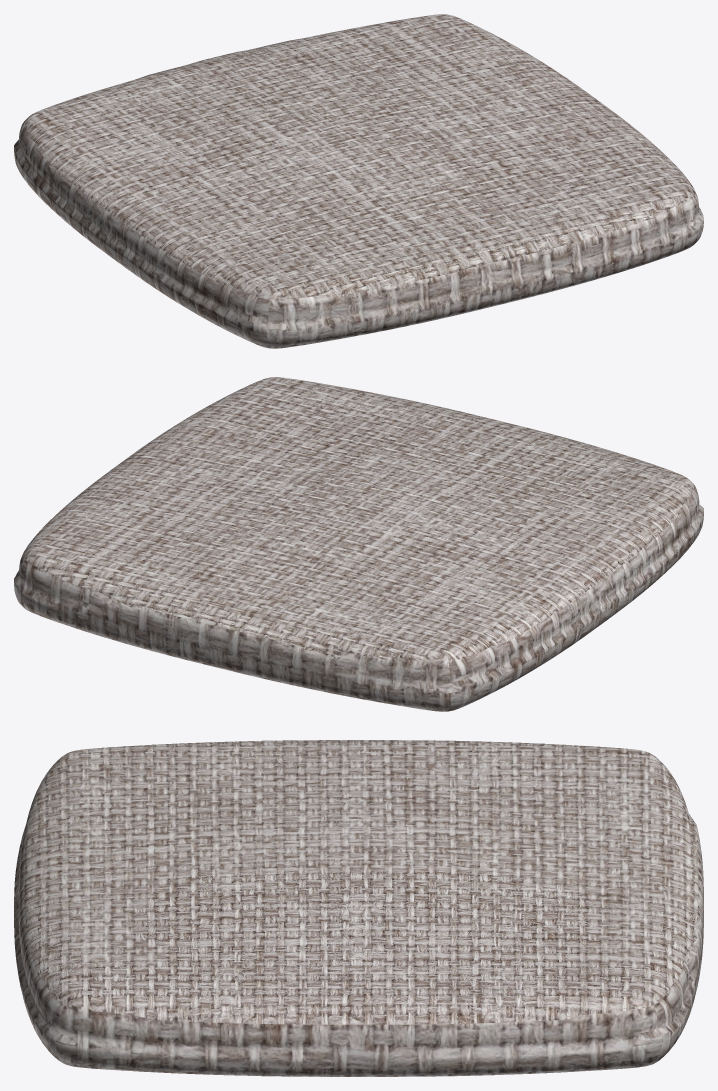
The model's file is box_lid_white.obj.
3 renders of one model, top to bottom at view 1: azimuth 30°, elevation 25°; view 2: azimuth 150°, elevation 25°; view 3: azimuth 270°, elevation 25°, orthographic. The views are drawn at different scales.
Parts seen in each view (by area): view 1: 001_Cube.002; view 2: 001_Cube.002; view 3: 001_Cube.002.
Part boxes in pixels (bbox=[...]): 001_Cube.002: bbox=[14, 14, 703, 348]; 001_Cube.002: bbox=[14, 377, 703, 711]; 001_Cube.002: bbox=[14, 740, 703, 1076].
Bounding box in the file's own units: 0.4835 × 0.0664 × 0.4835.
